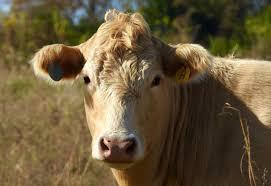cow: (37, 16, 271, 186)
